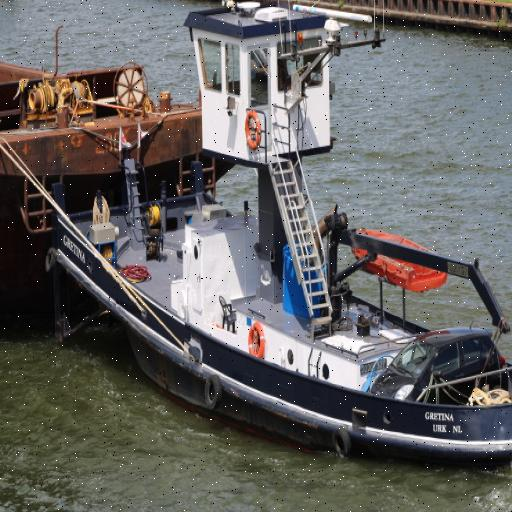tugboat: (46, 1, 512, 488)
